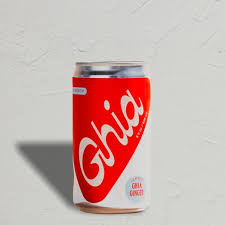can: (69, 59, 153, 217)
